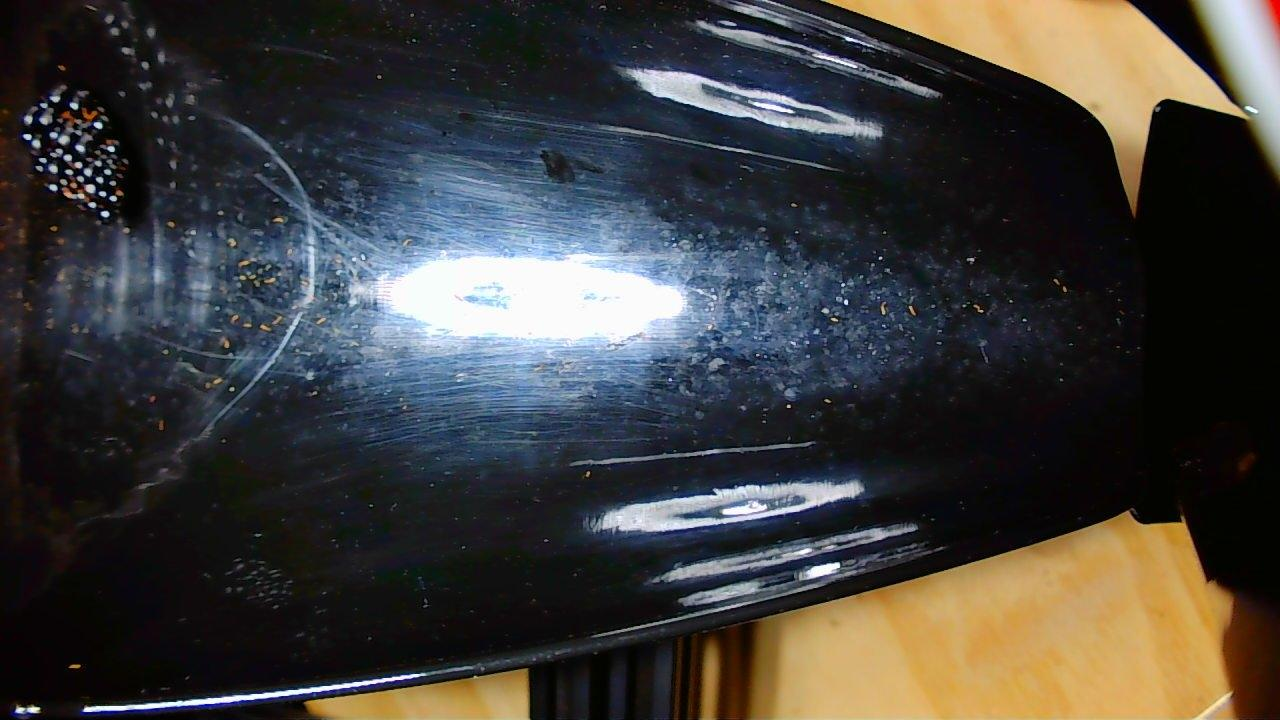berry: (20, 88, 128, 222)
